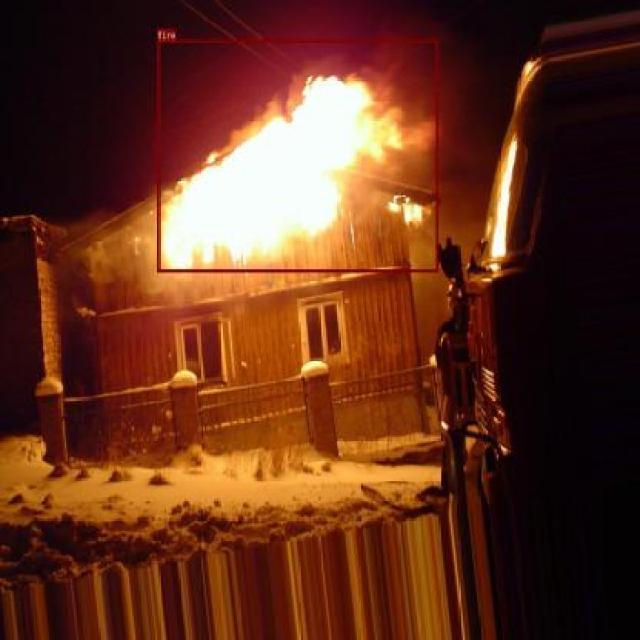Fire: (156, 39, 438, 272)
